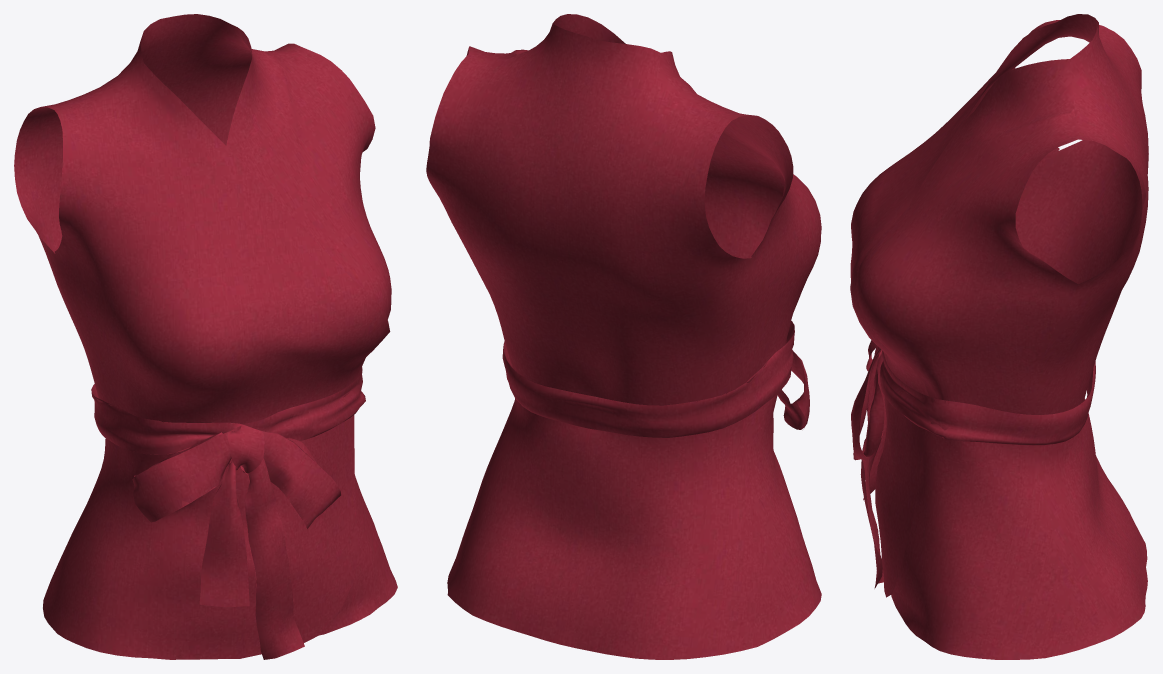
Rendered from rouge-wrap-top.glb.
3 views of the same model, side by side, from view 1: azimuth 30°, elevation 25°; view 2: azimuth 150°, elevation 25°; view 3: azimuth 270°, elevation 25° (orthographic). The views are drawn at different scales.
Visible parts, largest first — view 1: defaultMaterial; view 2: defaultMaterial; view 3: defaultMaterial.
Part boxes in pixels (x1,y1,x2,y2): defaultMaterial: (14, 14, 397, 659); defaultMaterial: (426, 14, 821, 659); defaultMaterial: (850, 14, 1148, 659).
Size of the model in its own units: 1.19 by 2 by 0.9654.
1 material, 1 textured.
